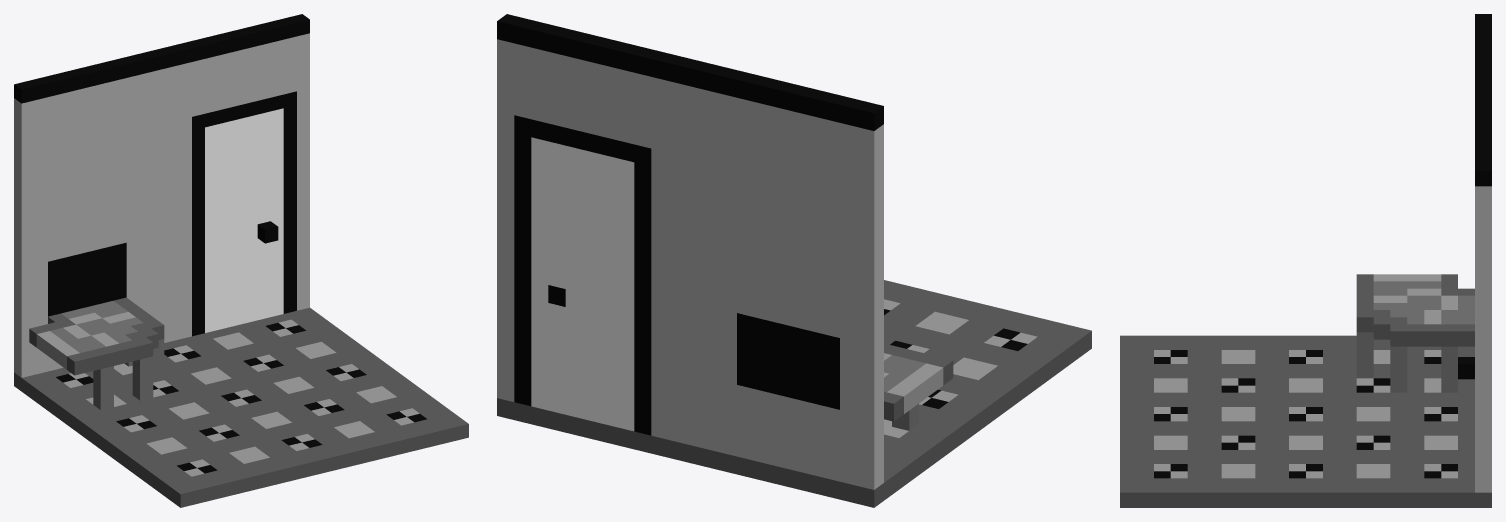
File: level_one-11.obj
3 views of the same model, side by side, from view 1: azimuth 30°, elevation 25°; view 2: azimuth 150°, elevation 25°; view 3: azimuth 270°, elevation 25° (orthographic). The views are drawn at different scales.
Visible parts, largest first — view 1: level_one-11; view 2: level_one-11; view 3: level_one-11.
Boxes of the visible parts, box(x1,y1,x2,y2) form: level_one-11: box(14, 14, 468, 507); level_one-11: box(497, 14, 1091, 507); level_one-11: box(1120, 14, 1491, 507).
Bounding box in the file's own units: 22 × 22 × 22.
1 material, 1 textured.
